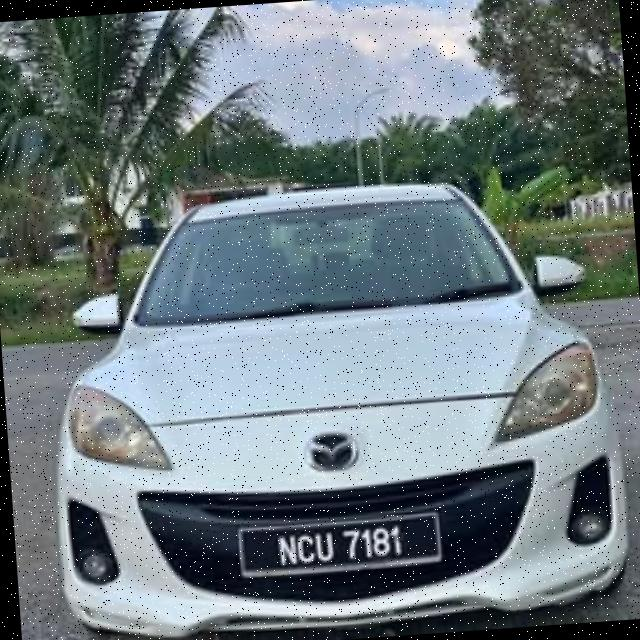License_Plate: (233, 509, 445, 581)
car: (32, 167, 634, 640)
